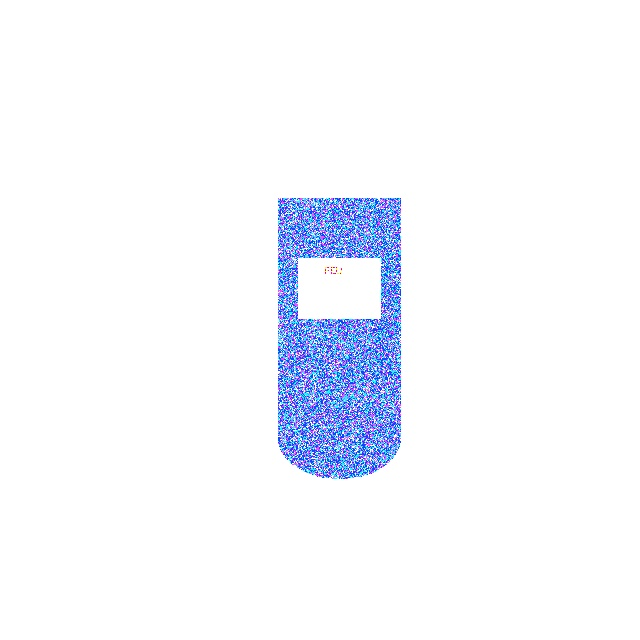Extincteur: (215, 198, 462, 438)
